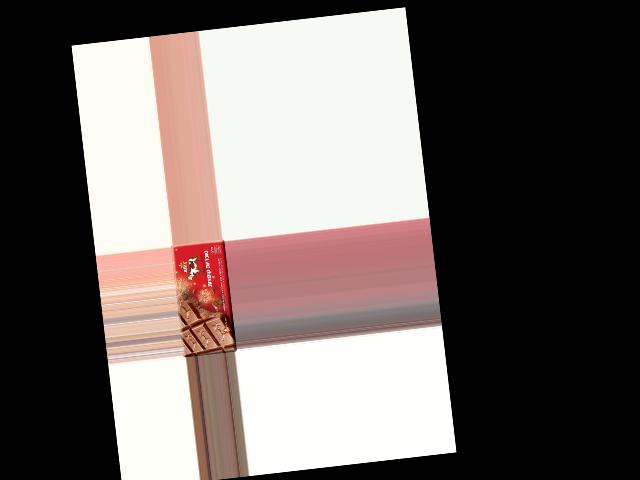chocolate: (171, 238, 236, 356)
